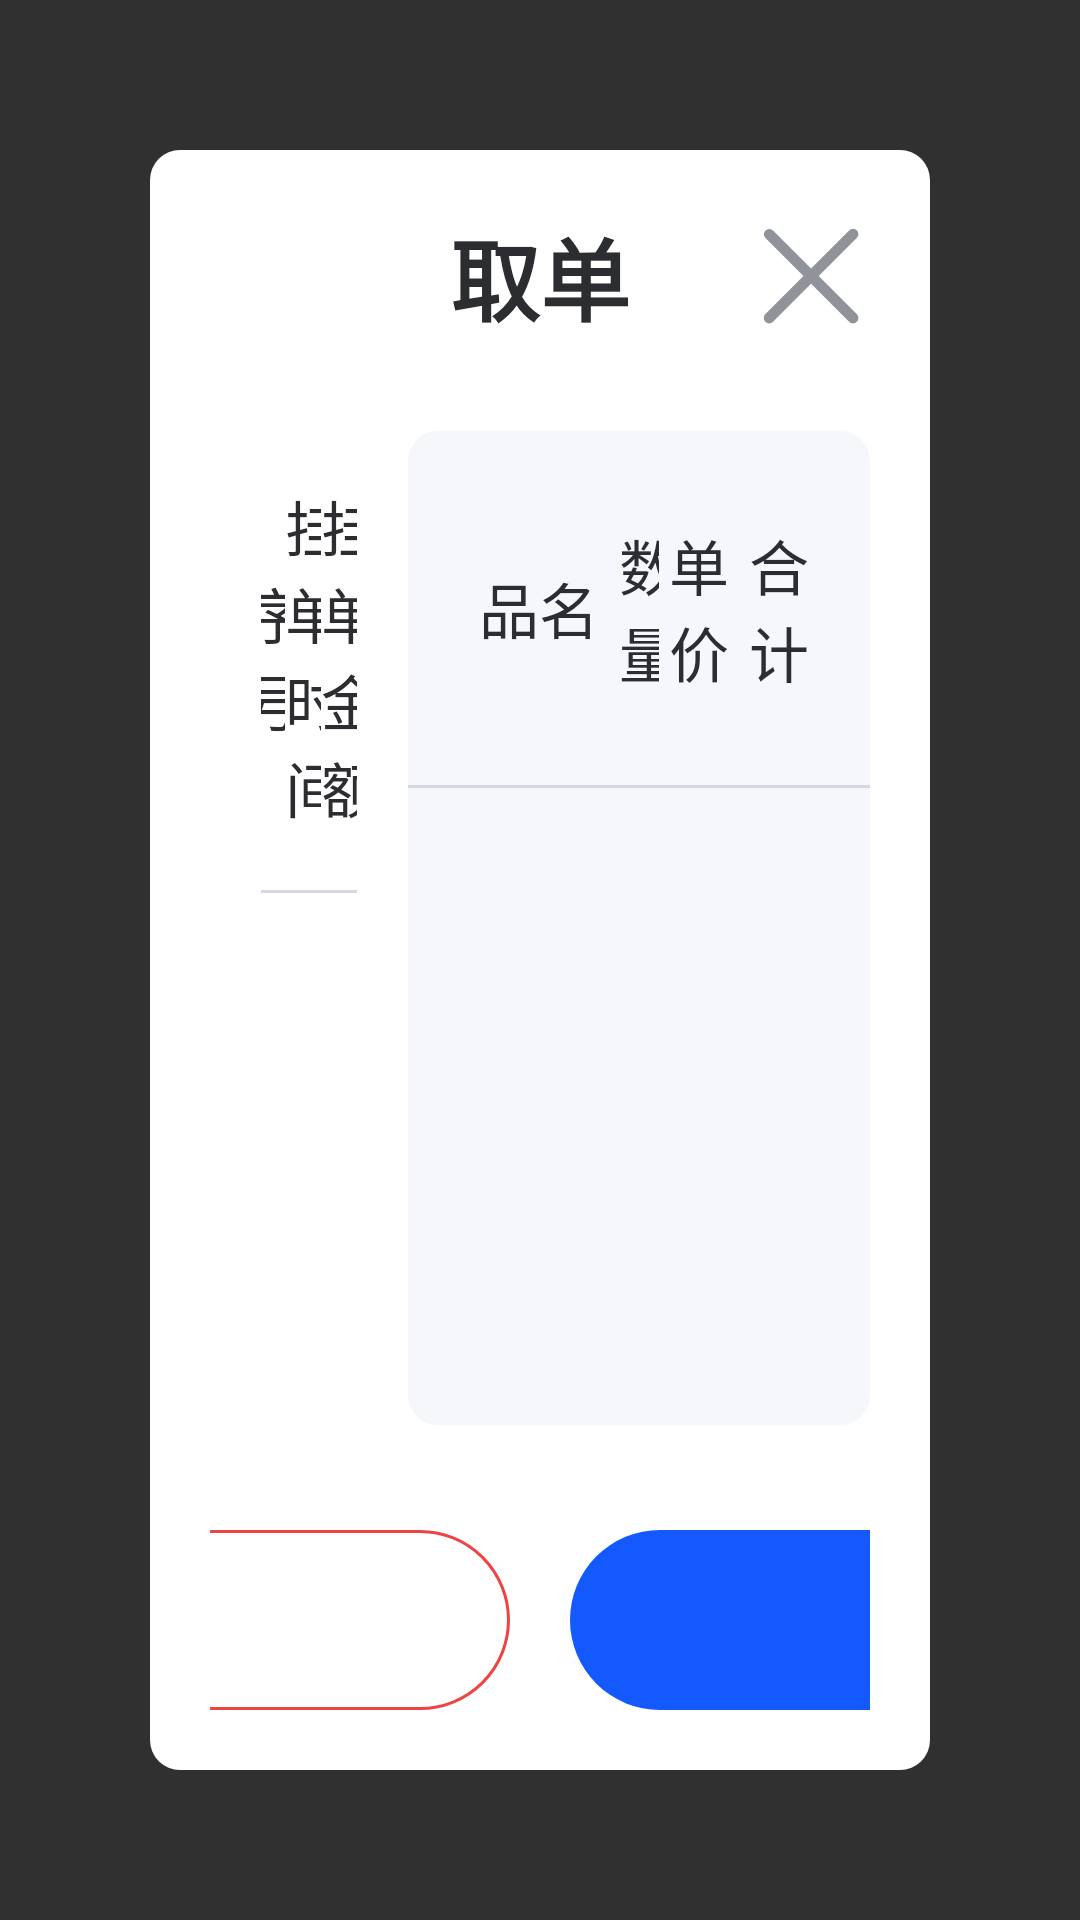

Named icons in this screenshot (1080*1920) and their centers, point (x, y):
guanbi: point (811, 276)
